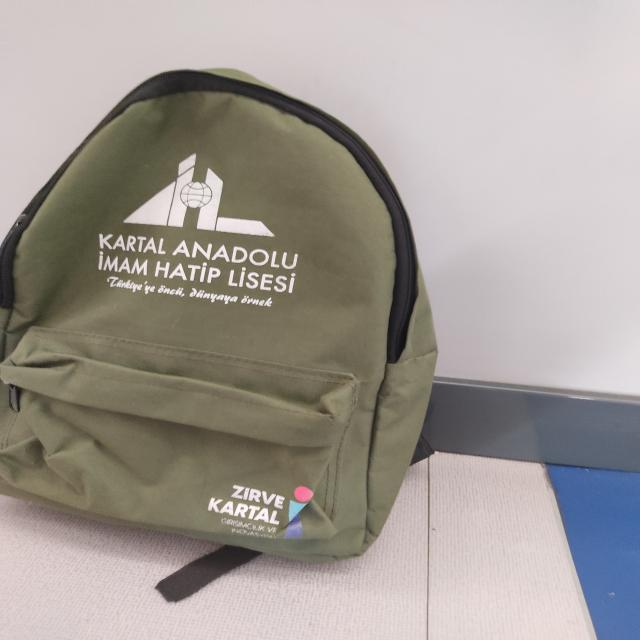bag: (3, 64, 440, 578)
